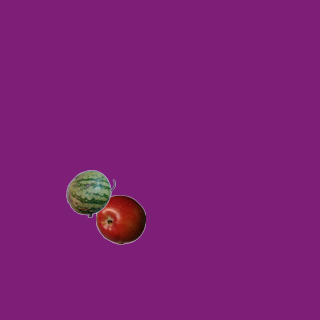Apple Braeburn: (95, 194, 145, 244)
Watermelon: (65, 168, 115, 218)
